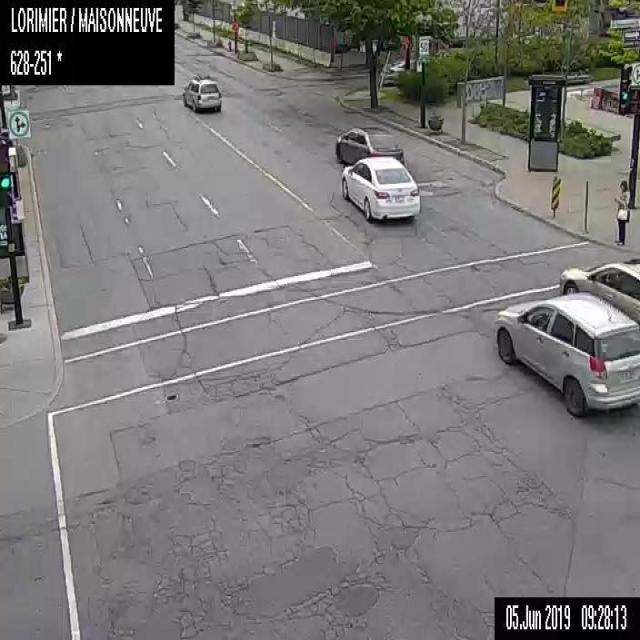pedestrian: (613, 178, 630, 245)
vehicle: (493, 291, 639, 417), (558, 260, 639, 326), (340, 156, 419, 220), (335, 126, 403, 166), (182, 75, 222, 112), (379, 54, 416, 86)
